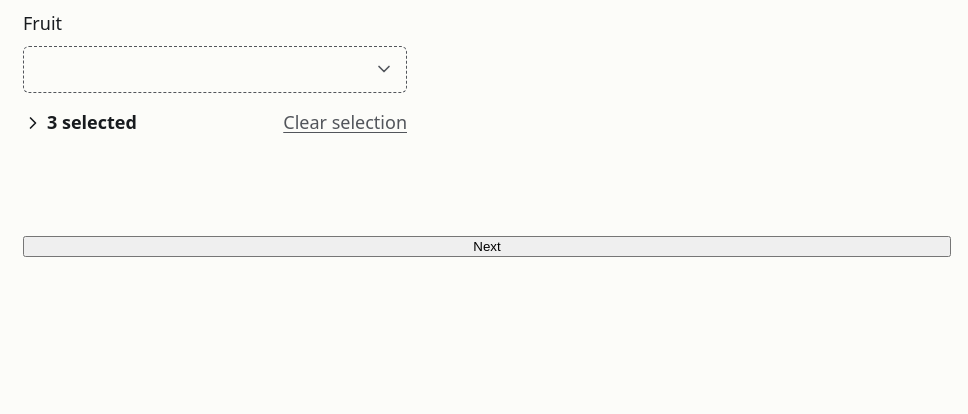
it: selection summary › lets a disabled combobox's selection be reviewed but not changed
Click the button "3 selected": coordinates (80, 123) [19, 101, 141, 145]
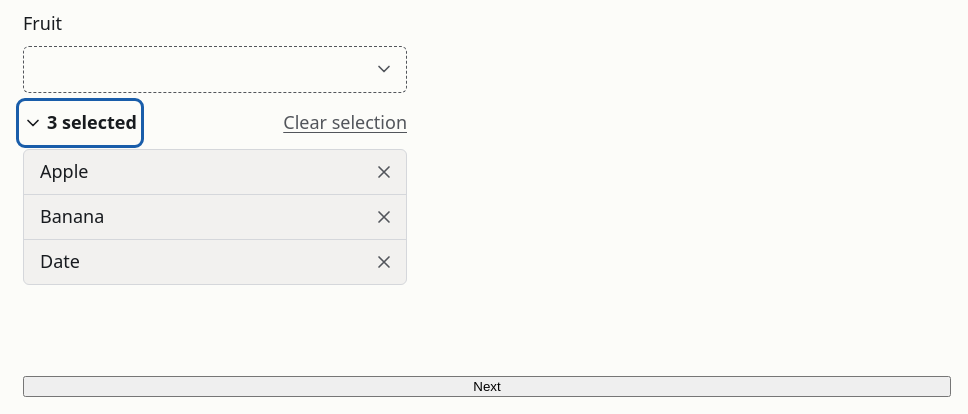
Expected: the button "Clear selection" is disabled, [279, 101, 411, 145]
Expected: the button named "Remove Apple" is disabled, [362, 150, 406, 194]
